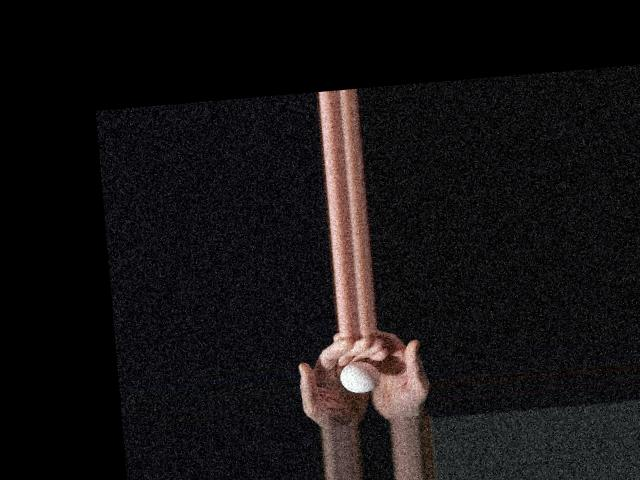egg: (338, 359, 381, 394)
